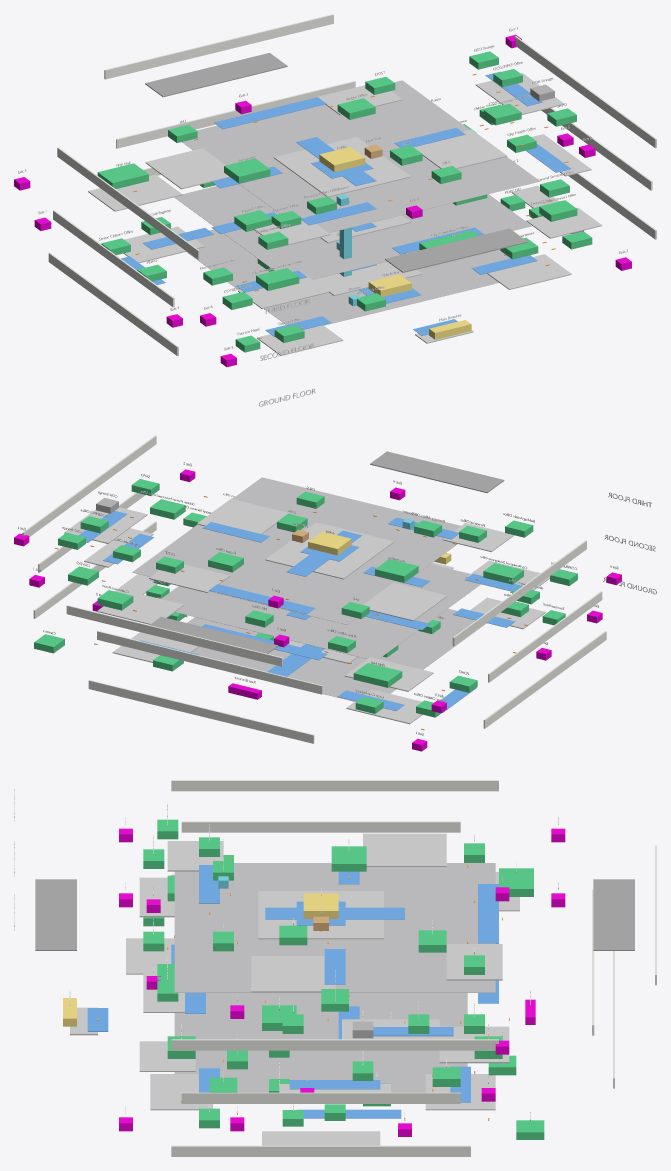
File: PROTOTYPE2.glb
3 views of the same model, one above another, from view 1: azimuth 30°, elevation 25°; view 2: azimuth 150°, elevation 25°; view 3: azimuth 270°, elevation 25° (orthographic). The views are drawn at different scales.
Visible parts, largest first — view 1: 3_BaseFill, 2_BaseFill, G_BaseFill, 3_Slab_Main central third block, 3_Slab_Roof slab bottom, 3_Slab_Roof slab top, 3_OuterWall_2_36.0, 3_Slab_Right COA DILG wing, 3_Slab_Left accounting IAU wing, 2_OuterWall_1_31.5, 3_OuterWall_-20.0_13, 3_OuterWall_24.0_13 (+29 smaller); view 2: 3_BaseFill, 2_BaseFill, G_BaseFill, 3_Slab_Main central third block, G_OuterWall_1_33.0, 2_OuterWall_1_31.5, 3_Slab_Roof slab bottom, 3_OuterWall_2_36.0, 3_Slab_Left accounting IAU wing, 3_Slab_Right COA DILG wing, 3_OuterWall_-20.0_13, 3_Slab_Roof slab top (+28 smaller); view 3: 3_BaseFill, 2_BaseFill, G_BaseFill, 3_OuterWall_-20.0_13, 3_OuterWall_24.0_13, G_OuterWall_24.0_12, 3_Slab_Main central third block, 2_OuterWall_-22.0_12, 2_OuterWall_24.0_12, 3_Slab_Roof slab top, 3_Slab_Roof slab bottom, 3_Slab_Left accounting IAU wing (+29 smaller).
Boxes of the visible parts, bbox=[...] form: 3_BaseFill: bbox=[182, 80, 540, 232]; 2_BaseFill: bbox=[174, 184, 531, 279]; G_BaseFill: bbox=[186, 229, 510, 325]; 3_Slab_Main central third block: bbox=[273, 137, 410, 197]; 3_Slab_Roof slab bottom: bbox=[385, 228, 527, 272]; 3_Slab_Roof slab top: bbox=[145, 53, 287, 97]; 3_OuterWall_2_36.0: bbox=[104, 14, 333, 79]; 3_Slab_Right COA DILG wing: bbox=[414, 129, 507, 168]; 3_Slab_Left accounting IAU wing: bbox=[145, 148, 229, 189]; 2_OuterWall_1_31.5: bbox=[116, 81, 355, 148]; 3_OuterWall_-20.0_13: bbox=[57, 147, 199, 259]; 3_OuterWall_24.0_13: bbox=[514, 36, 656, 148]; 3_BaseFill: bbox=[132, 477, 460, 624]; 2_BaseFill: bbox=[161, 564, 480, 658]; G_BaseFill: bbox=[187, 608, 486, 701]; 3_Slab_Main central third block: bbox=[265, 522, 394, 579]; G_OuterWall_1_33.0: bbox=[88, 680, 314, 743]; 2_OuterWall_1_31.5: bbox=[97, 631, 322, 694]; 3_Slab_Roof slab bottom: bbox=[370, 451, 504, 493]; 3_OuterWall_2_36.0: bbox=[66, 605, 282, 666]; 3_Slab_Left accounting IAU wing: bbox=[363, 582, 447, 621]; 3_Slab_Right COA DILG wing: bbox=[197, 499, 289, 534]; 3_OuterWall_-20.0_13: bbox=[452, 540, 586, 645]; 3_Slab_Roof slab top: bbox=[150, 616, 278, 653]; 3_BaseFill: bbox=[174, 863, 495, 992]; 2_BaseFill: bbox=[181, 993, 460, 1039]; G_BaseFill: bbox=[174, 993, 467, 1092]; 3_OuterWall_-20.0_13: bbox=[171, 780, 498, 791]; 3_OuterWall_24.0_13: bbox=[171, 1039, 498, 1050]; G_OuterWall_24.0_12: bbox=[171, 1145, 470, 1156]; 3_Slab_Main central third block: bbox=[258, 891, 383, 939]; 2_OuterWall_-22.0_12: bbox=[181, 821, 460, 832]; 2_OuterWall_24.0_12: bbox=[181, 1092, 460, 1103]; 3_Slab_Roof slab top: bbox=[593, 879, 634, 950]; 3_Slab_Roof slab bottom: bbox=[35, 879, 76, 950]; 3_Slab_Left accounting IAU wing: bbox=[363, 833, 446, 866].
Bounding box in the file's own units: 46.58 × 10.48 × 46.1.
